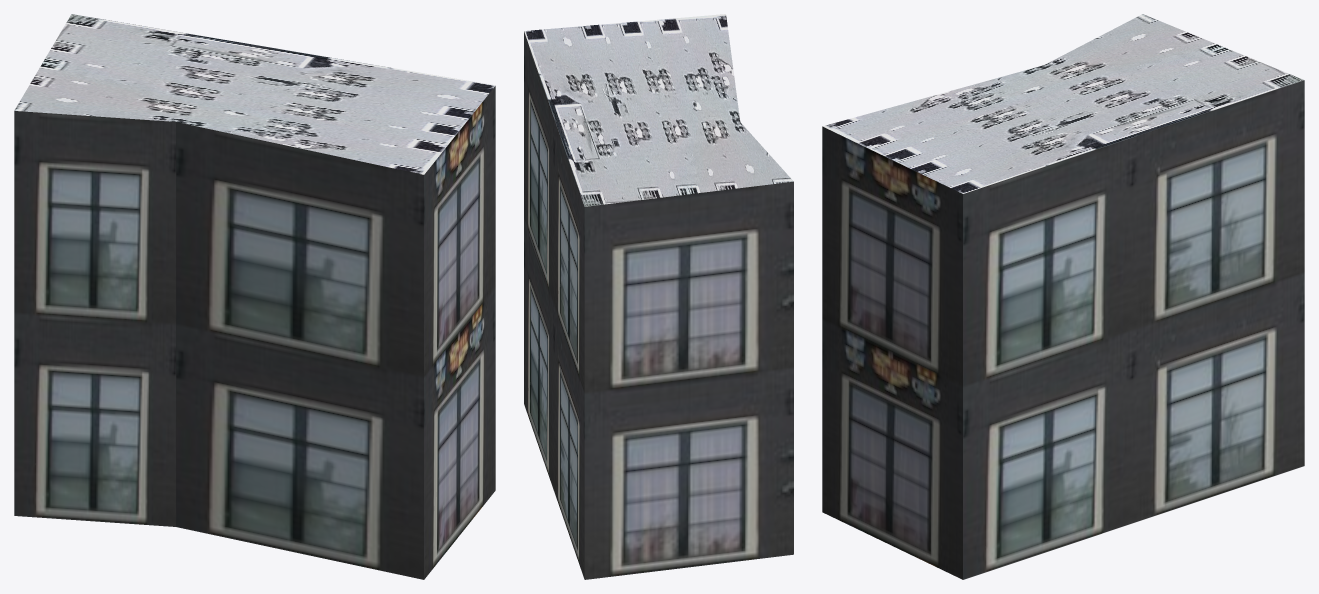
The model's file is ResTex__526.fbx.
3 renders of one model, left to right at view 1: azimuth 30°, elevation 25°; view 2: azimuth 150°, elevation 25°; view 3: azimuth 270°, elevation 25°, orthographic. The views are drawn at different scales.
Visible parts, largest first — view 1: CityEngineMaterial_22_m, CityEngineMaterial_4_m; view 2: CityEngineMaterial_22_m, CityEngineMaterial_4_m; view 3: CityEngineMaterial_22_m, CityEngineMaterial_4_m.
Part boxes in pixels (left/top/right/bottom): CityEngineMaterial_22_m: left=14, top=86, right=495, bottom=579; CityEngineMaterial_4_m: left=14, top=14, right=495, bottom=174; CityEngineMaterial_22_m: left=524, top=31, right=793, bottom=579; CityEngineMaterial_4_m: left=524, top=14, right=793, bottom=206; CityEngineMaterial_22_m: left=822, top=80, right=1304, bottom=579; CityEngineMaterial_4_m: left=823, top=14, right=1304, bottom=193.
Bounding box in the file's own units: 6 × 6 × 6.79.
2 materials, 2 textured.
